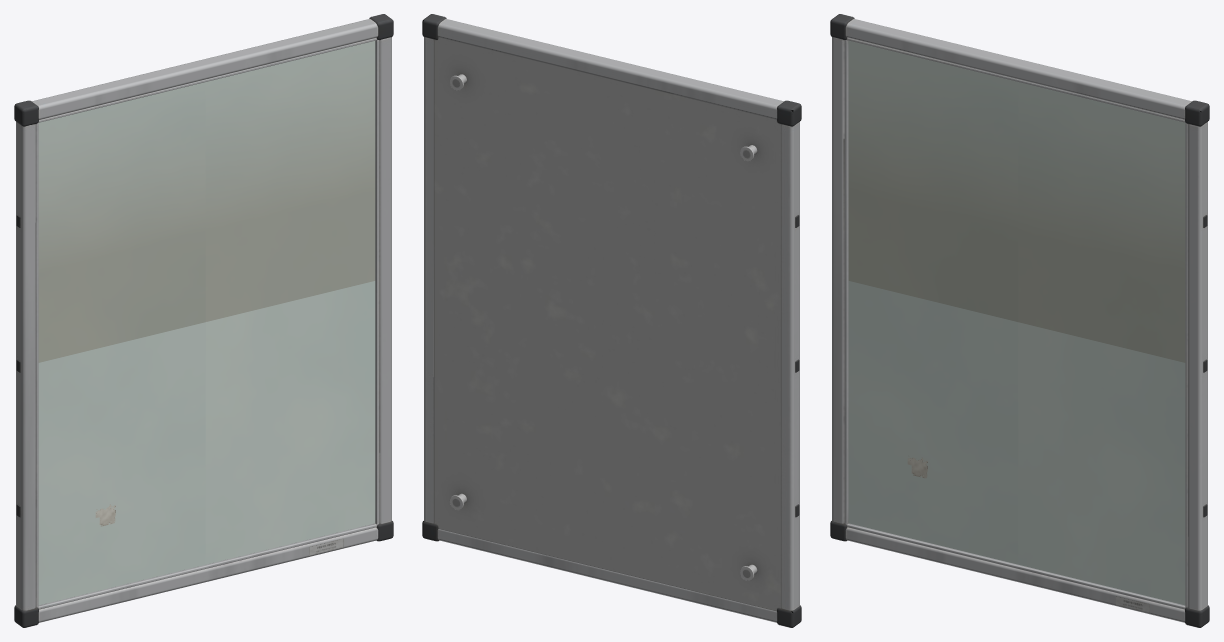
The model's file is BusStopRouteMap.fbx.
3 views of the same model, side by side, from view 1: azimuth 30°, elevation 25°; view 2: azimuth 150°, elevation 25°; view 3: azimuth 330°, elevation 25° (orthographic).
Visible parts, largest first — view 1: BusStopRouteMap_Cover, BusStopRouteMap_Body, BusStopRouteMap_Decals; view 2: BusStopRouteMap_Body; view 3: BusStopRouteMap_Cover, BusStopRouteMap_Body, BusStopRouteMap_Decals.
Part boxes in pixels (x1,y1,x2,y2): BusStopRouteMap_Cover: (38, 41, 375, 605); BusStopRouteMap_Body: (14, 14, 393, 627); BusStopRouteMap_Decals: (95, 504, 343, 555); BusStopRouteMap_Body: (422, 14, 801, 627); BusStopRouteMap_Cover: (848, 41, 1185, 605); BusStopRouteMap_Body: (830, 14, 1209, 627); BusStopRouteMap_Decals: (907, 455, 1149, 612).
Size of the model in its own units: 1.08 by 1.44 by 0.077.
